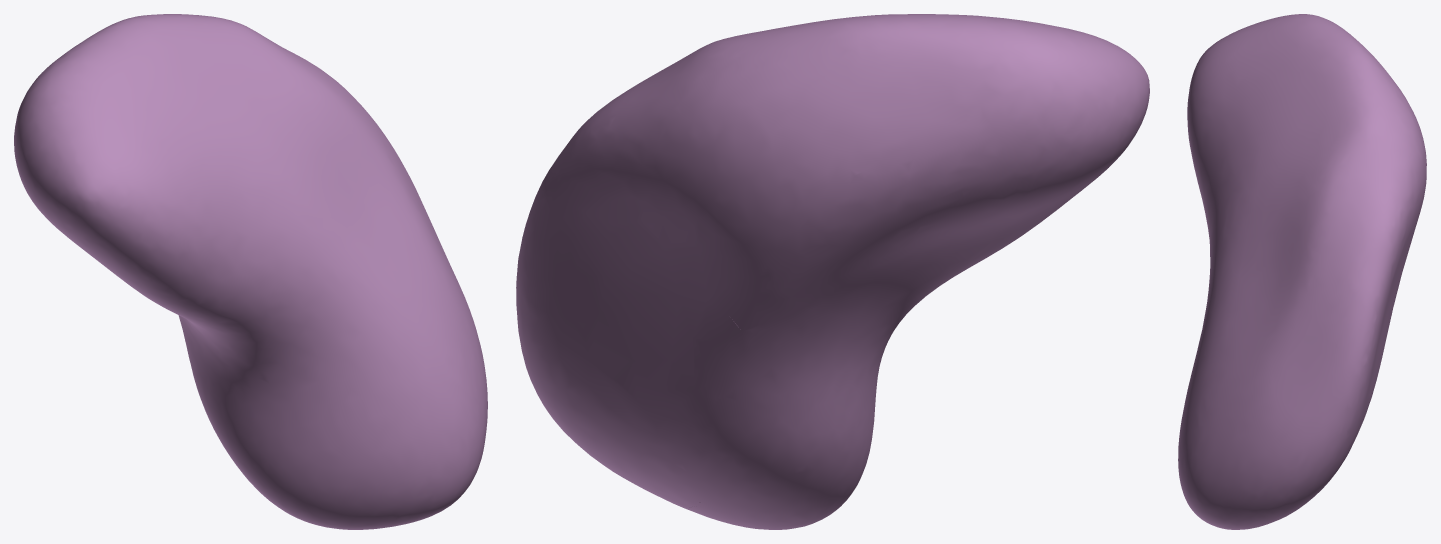
The picture shows the model from 3 angles, left to right: view 1: azimuth 30°, elevation 25°; view 2: azimuth 150°, elevation 25°; view 3: azimuth 270°, elevation 25°; orthographic projection. The views are drawn at different scales.
Parts seen in each view (by area): view 1: 左侧二腹小叶; view 2: 左侧二腹小叶; view 3: 左侧二腹小叶.
Boxes of the visible parts, x1=… form: 左侧二腹小叶: x1=14, y1=14, x2=487, y2=529; 左侧二腹小叶: x1=516, y1=14, x2=1149, y2=529; 左侧二腹小叶: x1=1178, y1=14, x2=1426, y2=529.
Bounding box in the file's own units: 0.0508 × 0.0522 × 0.0295.
